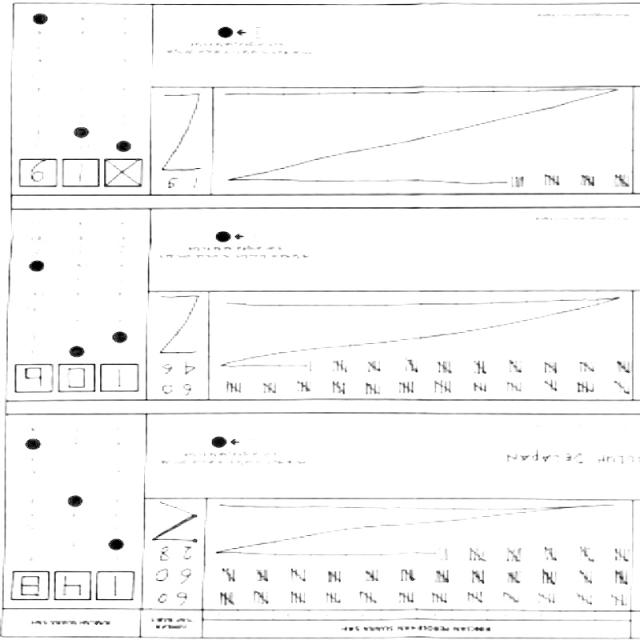Suara: (16, 153, 150, 190), (10, 570, 136, 605), (14, 366, 140, 396)
